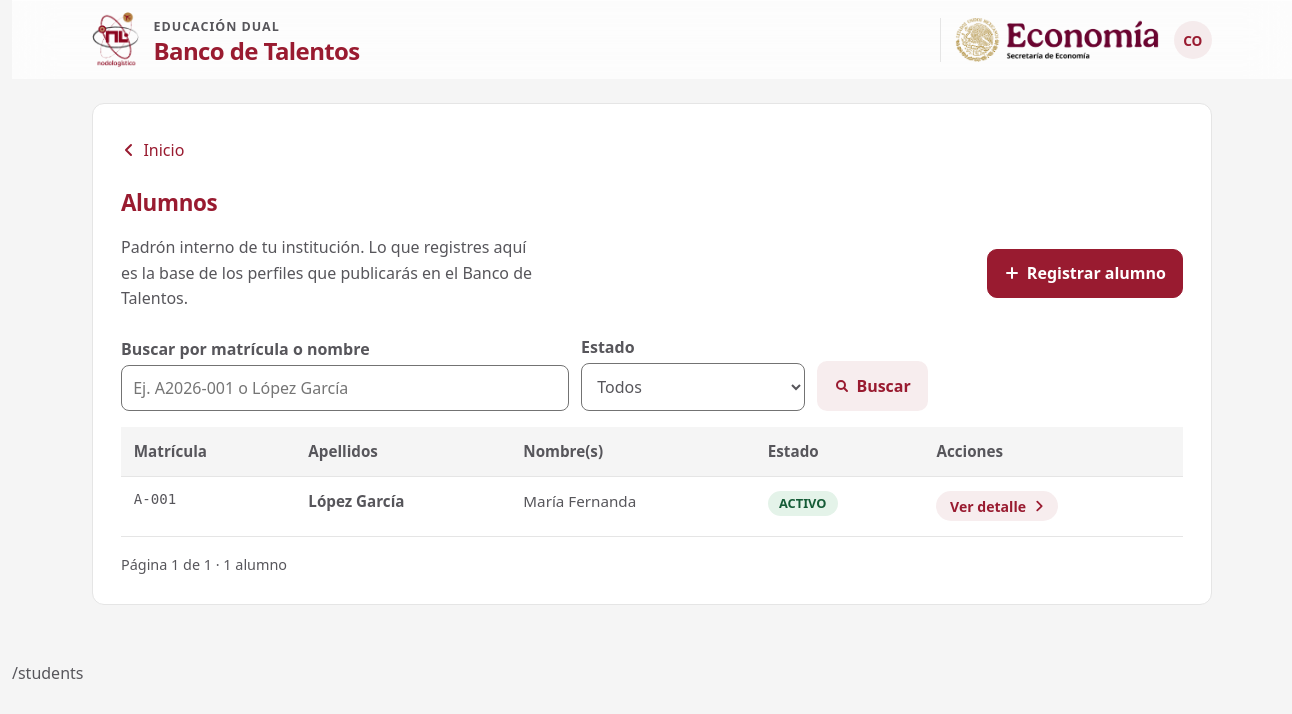
Test: expediente del alumno HU-S2-03 › abre el detalle desde el padrón y muestra la identidad como uso interno (CA-01)
This screenshot has width=1292, height=714.
Click the link with aria-label "Ver detalle de López García, María Fernanda": {"x": 997, "y": 506} [936,491,1058,521]
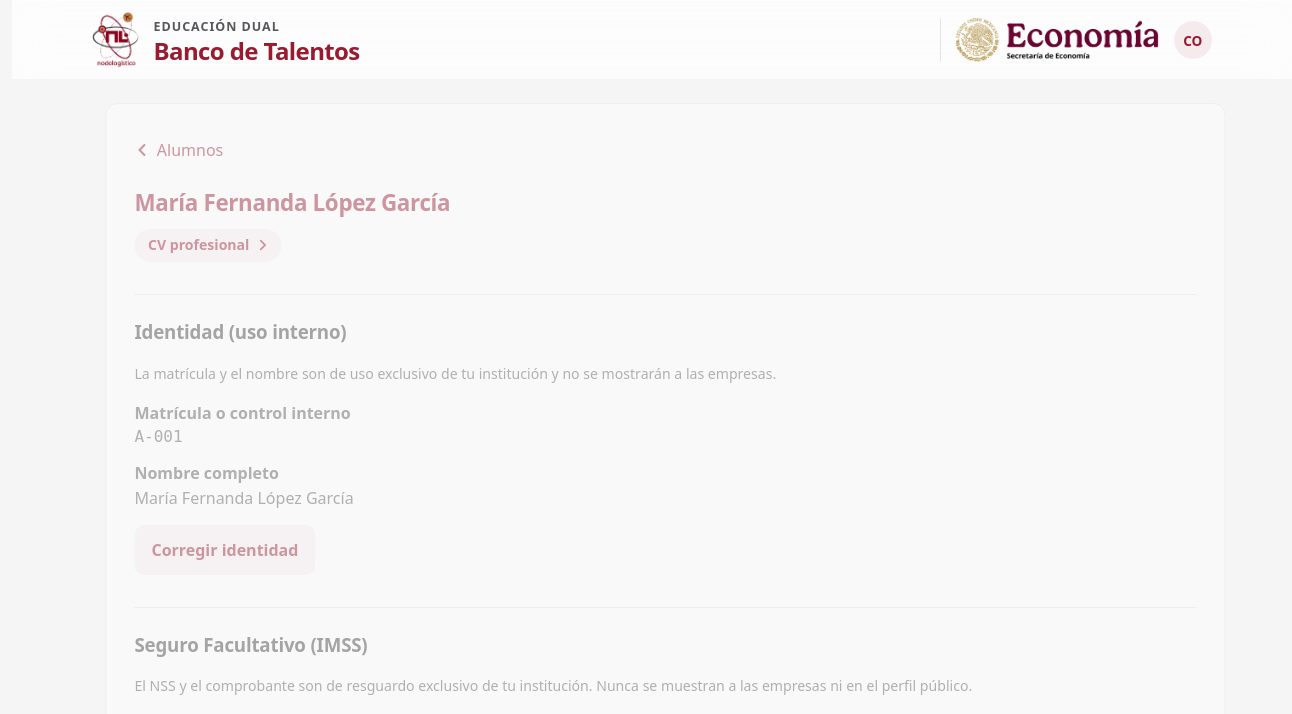
Expected: the text "A-001" is shown, [132,427,180,446]
Now the heading "María Fernanda López García" is shown, box [132,186,448,218]
Now the text "no se mostrarán a las empresas" is shown, box [132,364,774,383]
